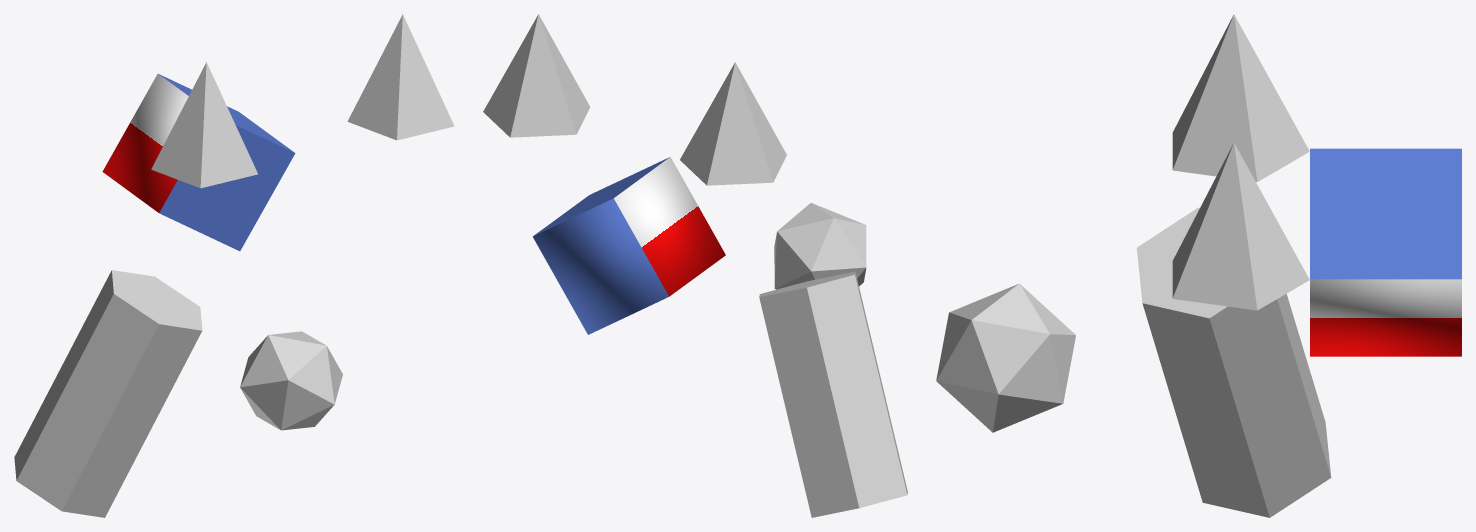
The model's file is scene_283_blender.glb.
The picture shows the model from 3 angles, left to right: view 1: azimuth 30°, elevation 25°; view 2: azimuth 150°, elevation 25°; view 3: azimuth 270°, elevation 25°; orthographic projection. The views are drawn at different scales.
Visible parts, largest first — view 1: Child, Cone (×2), Parent, AxisAngle; view 2: Child, Parent, Cone (×2), AxisAngle; view 3: Child, Parent, Cone (×2), AxisAngle.
Boxes of the visible parts, box(x1,y1,x2,y2) form: Child: box(14, 270, 202, 517); Cone (×2): box(151, 14, 454, 188); Parent: box(102, 73, 295, 251); AxisAngle: box(240, 331, 342, 430); Child: box(759, 271, 907, 517); Parent: box(532, 157, 725, 334); Cone (×2): box(483, 14, 786, 185); AxisAngle: box(774, 203, 866, 289); Child: box(1136, 207, 1331, 517); Parent: box(1310, 148, 1461, 356); Cone (×2): box(1172, 14, 1309, 310); AxisAngle: box(936, 283, 1075, 432).
Bounding box in the file's own units: 8.64 × 8.18 × 6.92.
Materials: 2 (1 with a texture image).
